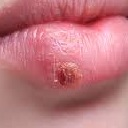Cold Sore: (53, 61, 84, 87)
